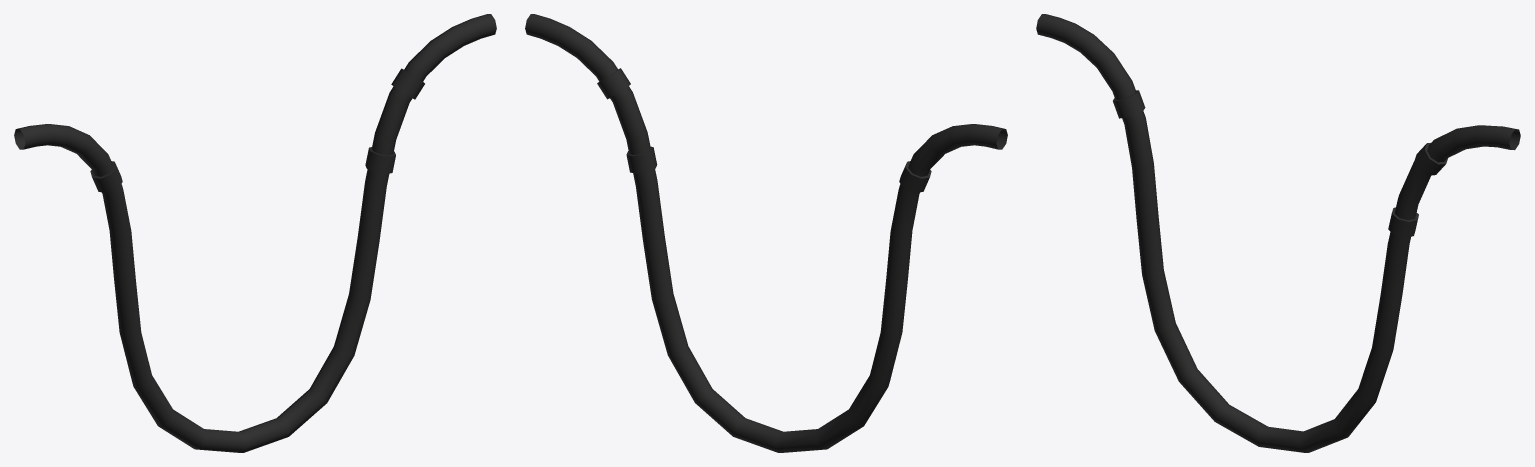
File: ElectricalWires03_13.glb
The picture shows the model from 3 angles, left to right: view 1: azimuth 30°, elevation 25°; view 2: azimuth 150°, elevation 25°; view 3: azimuth 330°, elevation 25°; orthographic projection.
Visible parts, largest first — view 1: NurbsPath_013; view 2: NurbsPath_013; view 3: NurbsPath_013.
Part boxes in pixels (left/top/right/bottom): NurbsPath_013: left=14, top=14, right=496, bottom=452; NurbsPath_013: left=525, top=14, right=1007, bottom=452; NurbsPath_013: left=1036, top=14, right=1520, bottom=452.
Bounding box in the file's own units: 1.9 × 1.45 × 0.1025.
Materials: 1 (1 with a texture image).
